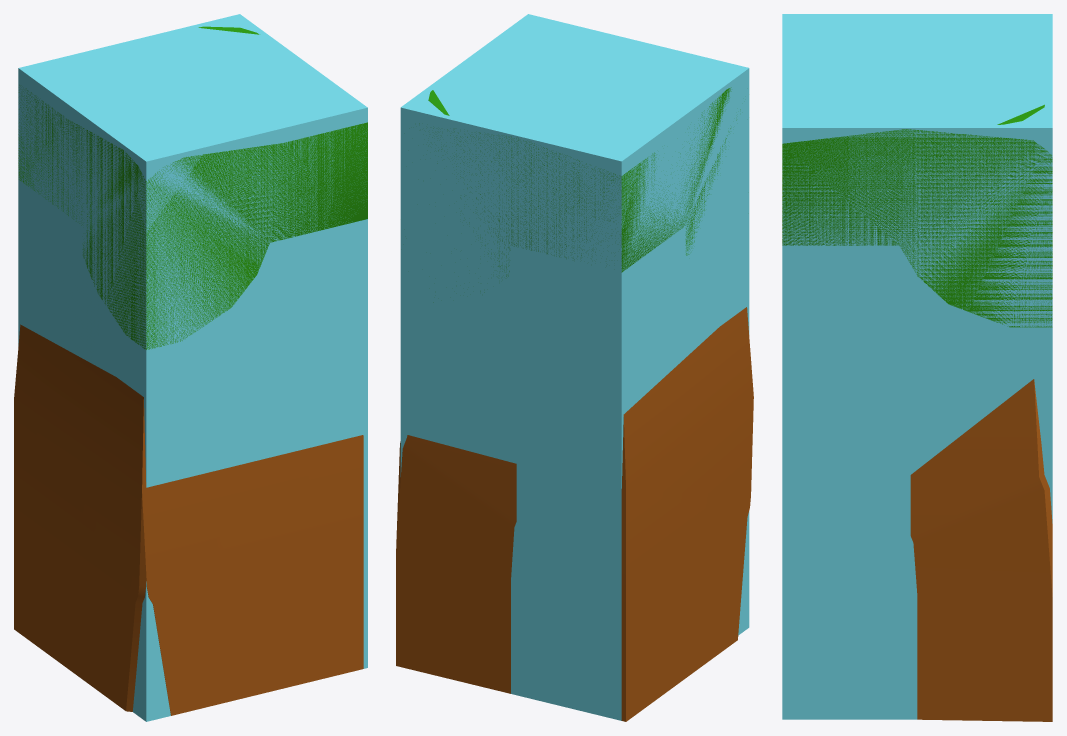
Rendered from PBOX1_Grass_05.FBX.
3 views of the same model, side by side, from view 1: azimuth 30°, elevation 25°; view 2: azimuth 150°, elevation 25°; view 3: azimuth 270°, elevation 25° (orthographic). The views are drawn at different scales.
Visible parts, largest first — view 1: PBOX1_Grass_05, PBOX1_SUB_TAB_MUD_01, PBOX1_SUB_Grass_05; view 2: PBOX1_Grass_05, PBOX1_SUB_TAB_MUD_01, PBOX1_SUB_Grass_05; view 3: PBOX1_Grass_05, PBOX1_SUB_TAB_MUD_01, PBOX1_SUB_Grass_05.
Part boxes in pixels (x1,y1,x2,y2): PBOX1_Grass_05: (18,14,367,721); PBOX1_SUB_TAB_MUD_01: (14,324,363,715); PBOX1_SUB_Grass_05: (18,26,367,349); PBOX1_Grass_05: (400,14,749,720); PBOX1_SUB_TAB_MUD_01: (396,307,753,721); PBOX1_SUB_Grass_05: (419,87,740,302); PBOX1_Grass_05: (782,14,1052,719); PBOX1_SUB_TAB_MUD_01: (910,379,1052,721); PBOX1_SUB_Grass_05: (782,104,1052,327).
Bounding box in the file's own units: 6.24 × 14.5 × 6.01.
